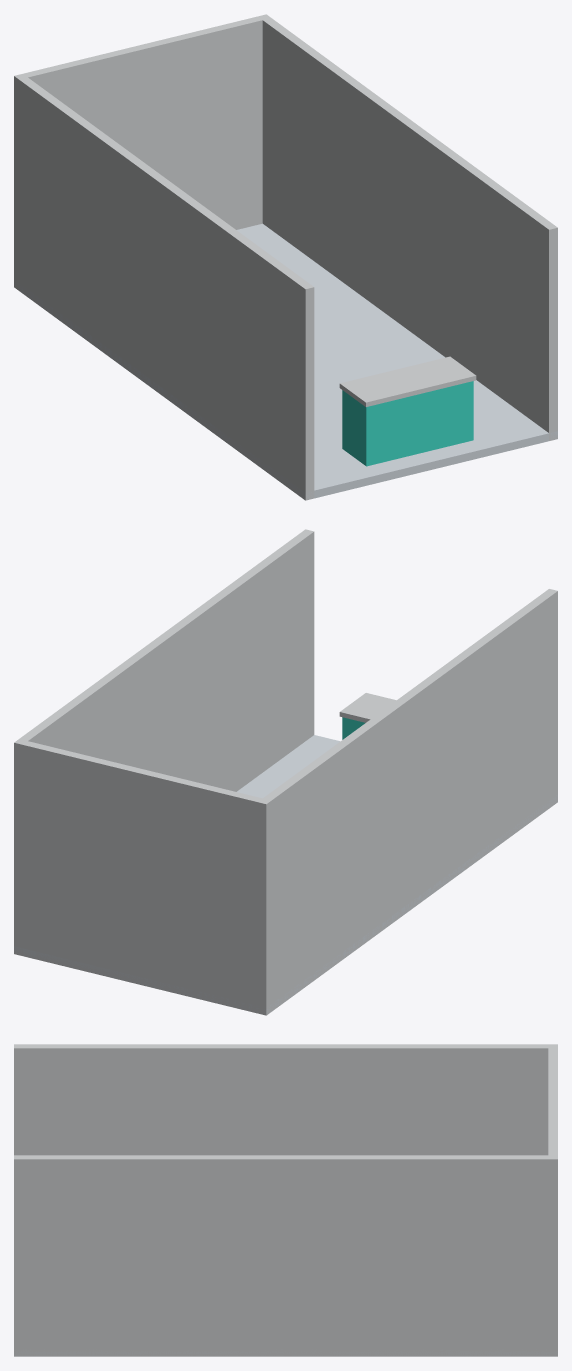
The picture shows the model from 3 angles, top to bottom: view 1: azimuth 30°, elevation 25°; view 2: azimuth 150°, elevation 25°; view 3: azimuth 270°, elevation 25°; orthographic projection. The views are drawn at different scales.
Parts seen in each view (by area): view 1: Exhibition Booth Concept; view 2: Exhibition Booth Concept; view 3: Exhibition Booth Concept.
Boxes of the visible parts, x1,y1,x2,y2 form: Exhibition Booth Concept: (14, 14, 557, 500); Exhibition Booth Concept: (14, 529, 557, 1015); Exhibition Booth Concept: (14, 1044, 557, 1356).
Bounding box in the file's own units: 4 × 3.2 × 8.
